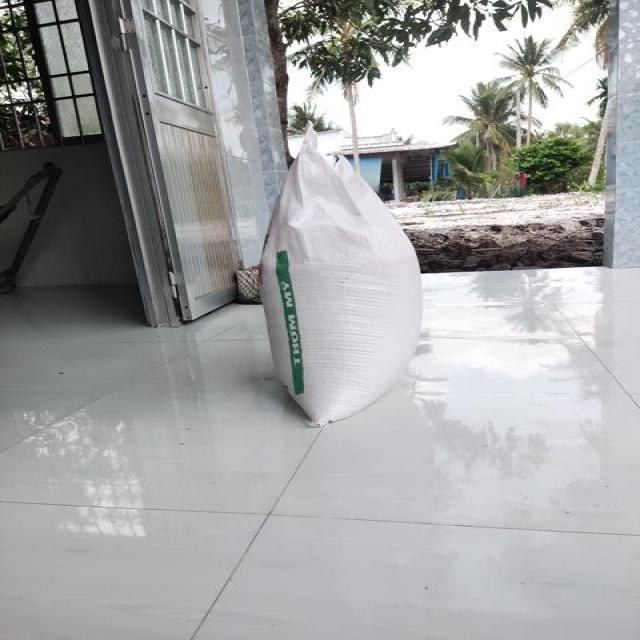gunny_bag: (261, 130, 423, 426)
